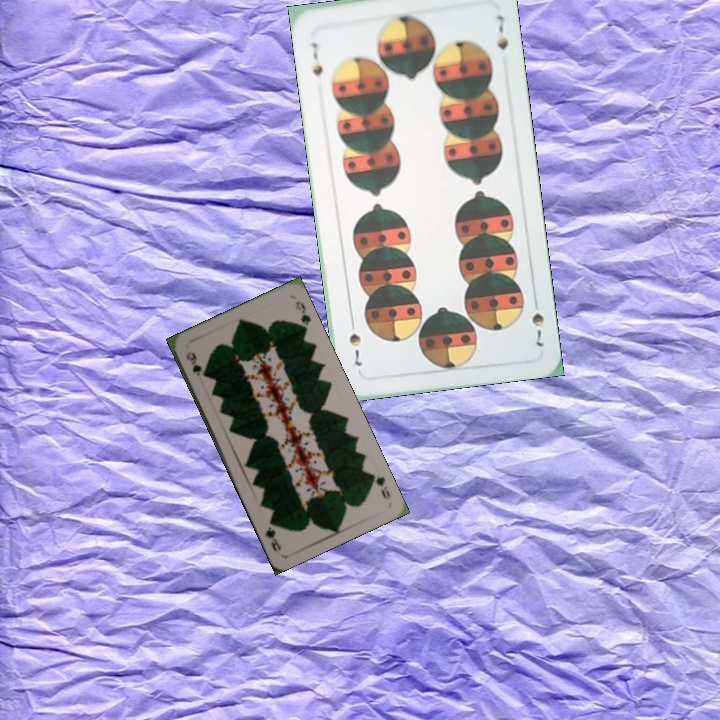G9: (365, 469, 393, 502), (182, 347, 204, 378)
S7: (527, 292, 547, 350), (307, 38, 326, 78)
